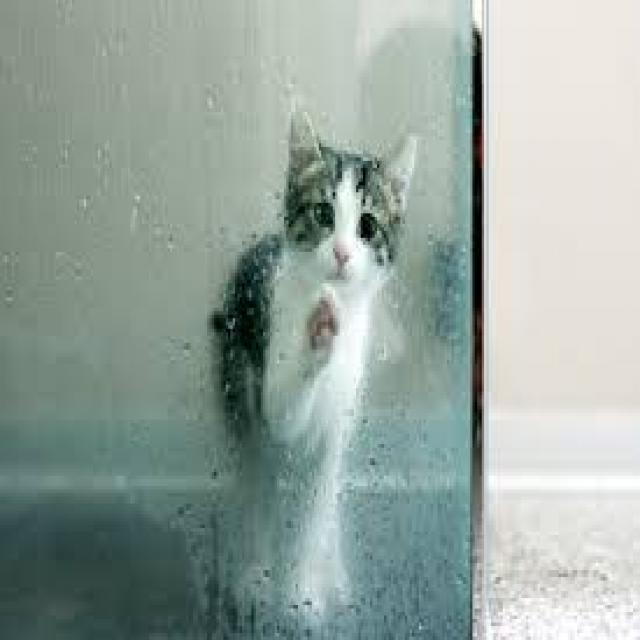Cat: (202, 100, 424, 630)
